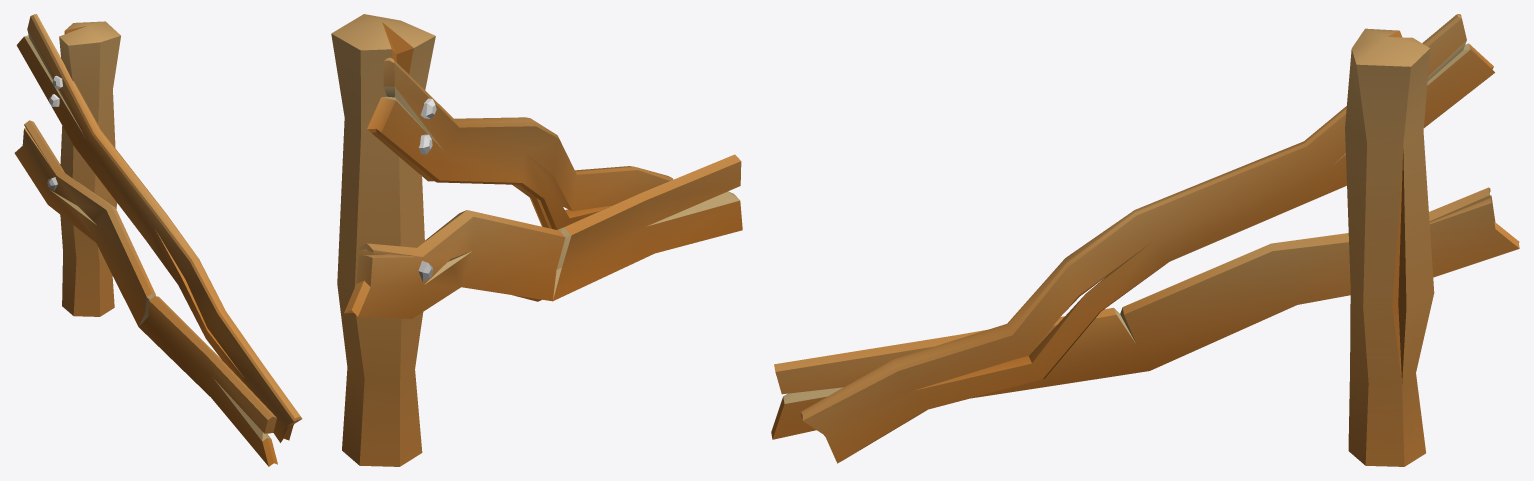
The model's file is valla8.fbx.
3 views of the same model, side by side, from view 1: azimuth 30°, elevation 25°; view 2: azimuth 150°, elevation 25°; view 3: azimuth 270°, elevation 25° (orthographic). The views are drawn at different scales.
Parts seen in each view (by area): view 1: vallaRota1; view 2: vallaRota1; view 3: vallaRota1.
Boxes of the visible parts, box(x1,y1,x2,y2) form: vallaRota1: box(14, 14, 302, 466); vallaRota1: box(331, 14, 742, 466); vallaRota1: box(771, 14, 1519, 466).
Size of the model in its own units: 141 by 615 by 999.
